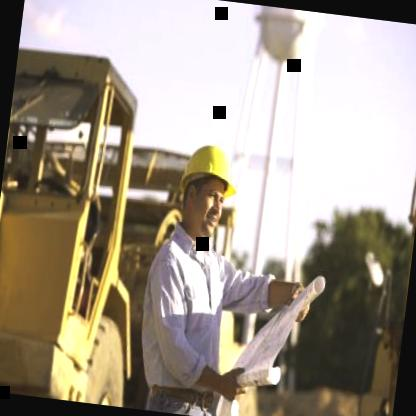helmet: (166, 124, 242, 250)
